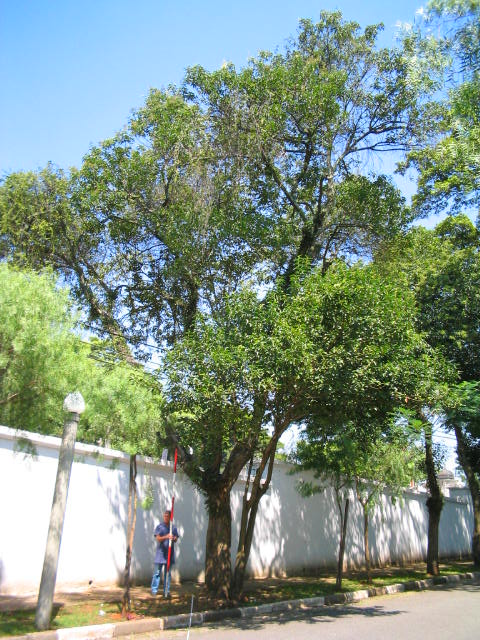crown: (4, 10, 470, 451)
stem: (194, 489, 241, 594)
stick: (162, 449, 180, 598)
tree: (1, 10, 470, 595)
